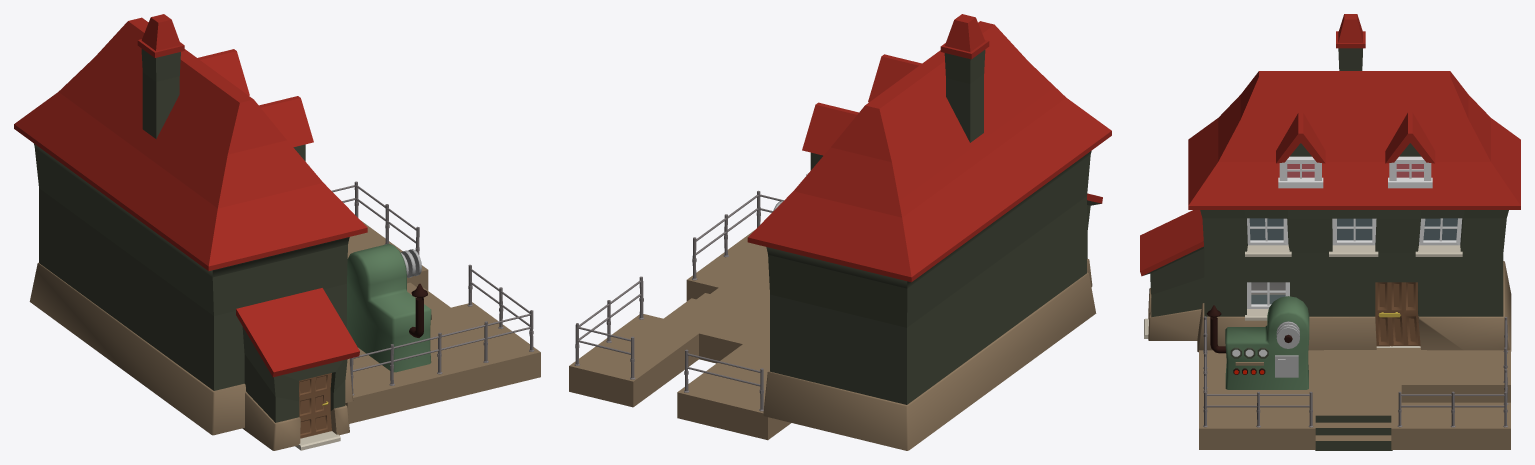
File: Estacion_inferior_teleferico_con_mas_detalle.fbx
3 renders of one model, left to right at view 1: azimuth 30°, elevation 25°; view 2: azimuth 150°, elevation 25°; view 3: azimuth 270°, elevation 25°, orthographic. The views are drawn at different scales.
Parts seen in each view (by area): view 1: estacion_inferior, plataforma_inferior, motor_funicular, barandilla; view 2: estacion_inferior, plataforma_inferior, barandilla; view 3: estacion_inferior, plataforma_inferior, motor_funicular, barandilla.
Part boxes in pixels (x1,y1,x2,y2): estacion_inferior: (14,14,367,450); plataforma_inferior: (345,221,540,423); motor_funicular: (347,243,431,372); barandilla: (331,181,534,395); estacion_inferior: (747,14,1111,450); plataforma_inferior: (569,230,790,440); barandilla: (574,190,783,411); estacion_inferior: (1140,14,1520,352); plataforma_inferior: (1199,348,1510,450); motor_funicular: (1206,296,1309,389); barandilla: (1203,316,1508,427).
Size of the model in its own units: 1099 by 1142 by 1253.
